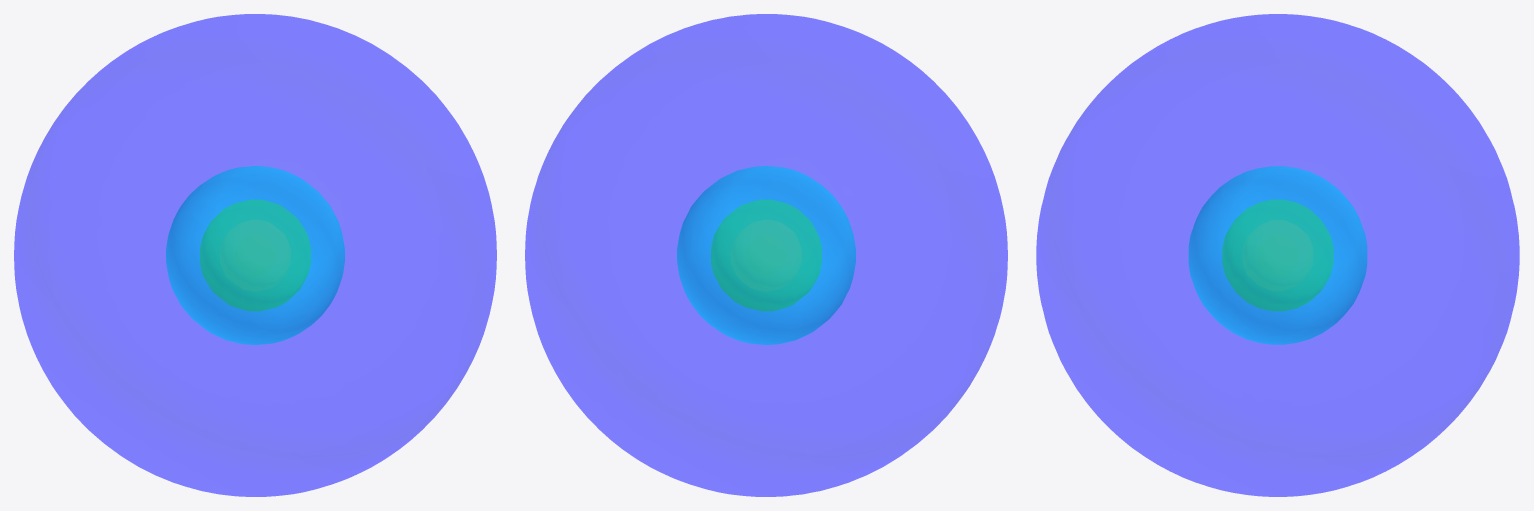
The model's file is orbital_n1_l0_m0_real_multilayer.fbx.
The picture shows the model from 3 angles, left to right: view 1: azimuth 30°, elevation 25°; view 2: azimuth 150°, elevation 25°; view 3: azimuth 270°, elevation 25°; orthographic projection.
Parts seen in each view (by area): view 1: orbital_n1_l0_m0_real_multilayer; view 2: orbital_n1_l0_m0_real_multilayer; view 3: orbital_n1_l0_m0_real_multilayer.
Part boxes in pixels (x1,y1,x2,y2): orbital_n1_l0_m0_real_multilayer: [14, 14, 496, 496]; orbital_n1_l0_m0_real_multilayer: [525, 14, 1007, 496]; orbital_n1_l0_m0_real_multilayer: [1036, 14, 1519, 496].
Bounding box in the file's own units: 483 × 483 × 483.
